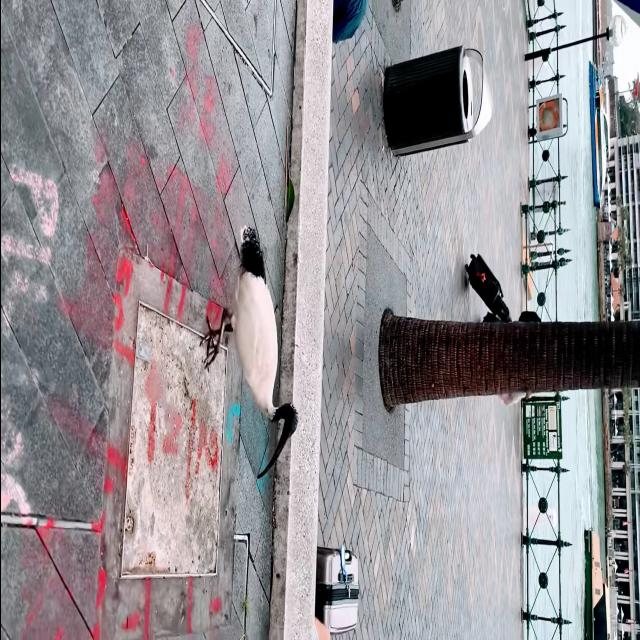Birds-Ibis: (196, 217, 303, 485)
